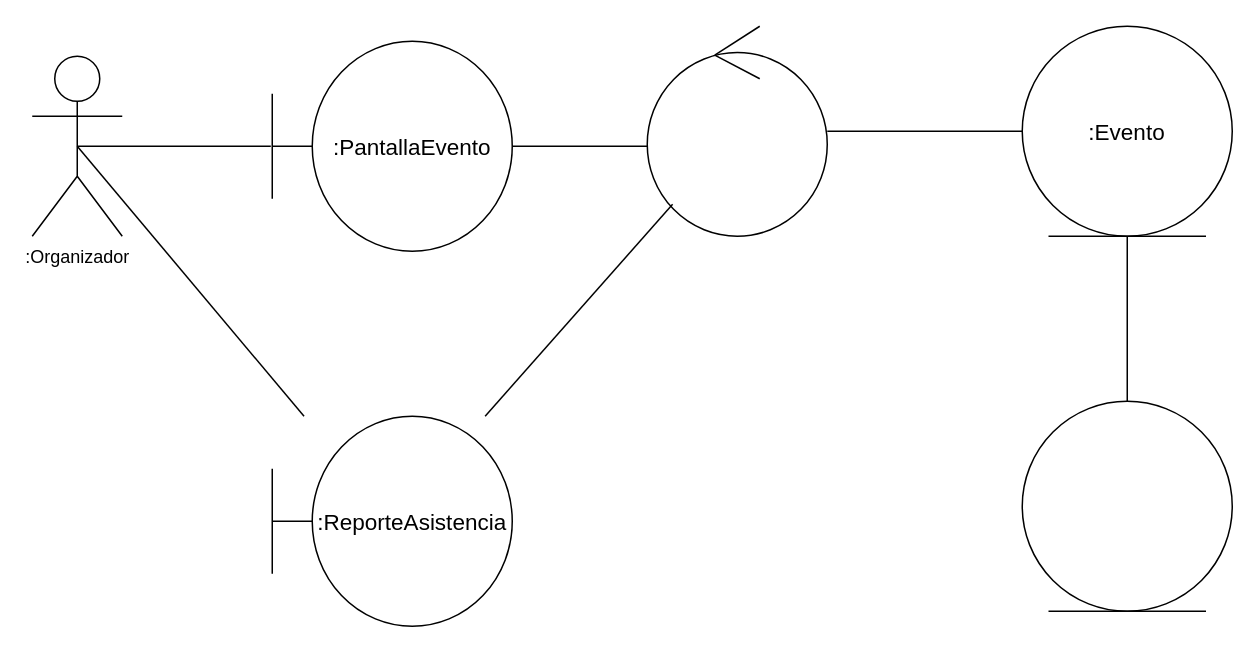
This 1259x653 diagram has some shape labels left out. The shapes that lost their labels are listed below. From the top down, each one's centre as x and y in pixels, then its label:
(x=736, y=130): :Generador Reporte
(x=1126, y=505): :Asistencia
